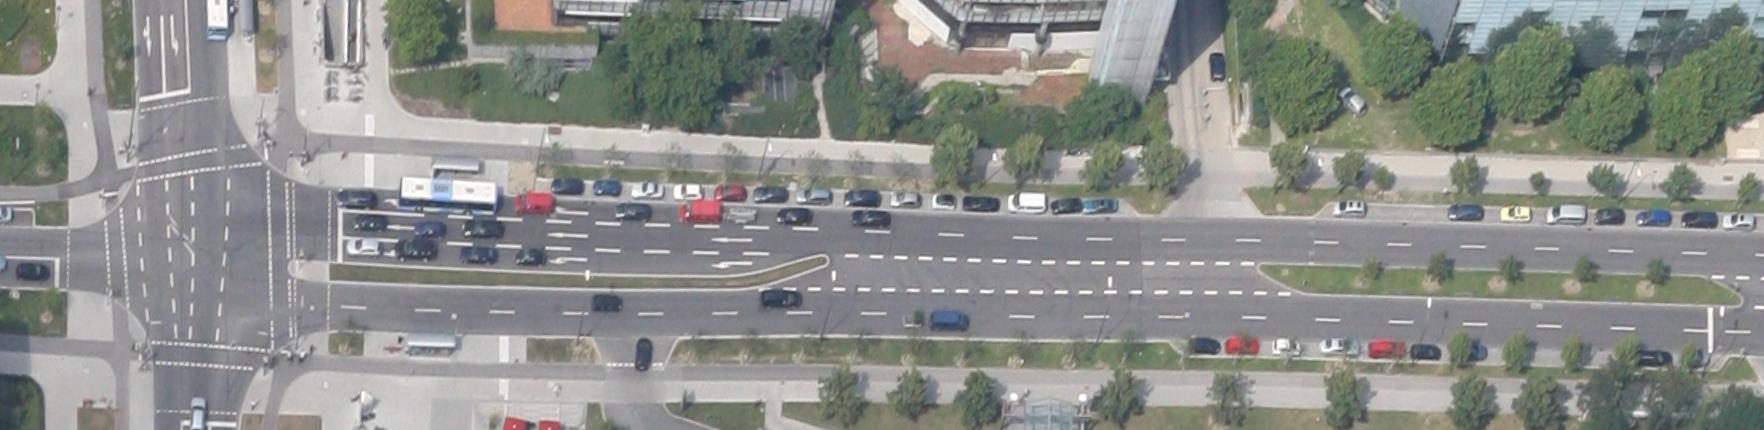car: (1335, 84, 1368, 117), (396, 238, 436, 261), (1547, 203, 1585, 226), (514, 192, 552, 215), (679, 201, 719, 223), (929, 310, 969, 330), (336, 188, 376, 208), (1008, 191, 1044, 213), (762, 289, 801, 308), (459, 245, 497, 265), (463, 220, 502, 239), (850, 208, 889, 227), (1367, 340, 1405, 359), (1318, 338, 1359, 356), (346, 236, 381, 257), (1447, 203, 1483, 222), (353, 213, 387, 233), (614, 201, 651, 220), (962, 195, 999, 213), (1681, 209, 1716, 229), (845, 188, 880, 207), (776, 207, 812, 225), (1635, 349, 1671, 367), (16, 262, 49, 281), (633, 338, 652, 371), (1332, 199, 1366, 217), (753, 185, 786, 203), (1189, 335, 1221, 355), (796, 188, 831, 205), (1721, 212, 1754, 230), (1083, 197, 1116, 215), (1636, 209, 1669, 226), (414, 221, 445, 239), (515, 248, 547, 266), (714, 183, 746, 201), (591, 294, 622, 312), (189, 396, 206, 429), (1225, 337, 1258, 353), (1593, 207, 1623, 224), (1500, 205, 1530, 222), (632, 181, 663, 198), (1272, 337, 1300, 355), (673, 182, 701, 200), (593, 179, 621, 197), (1411, 343, 1440, 360), (552, 178, 582, 195), (1053, 197, 1080, 215), (890, 191, 919, 207), (1209, 53, 1224, 82), (931, 192, 955, 210), (729, 207, 754, 223), (902, 314, 922, 328)
